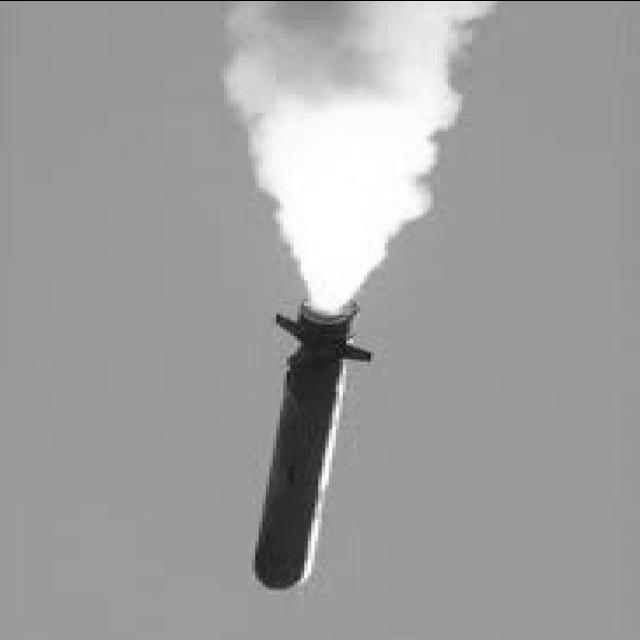missile: (250, 288, 355, 607)
